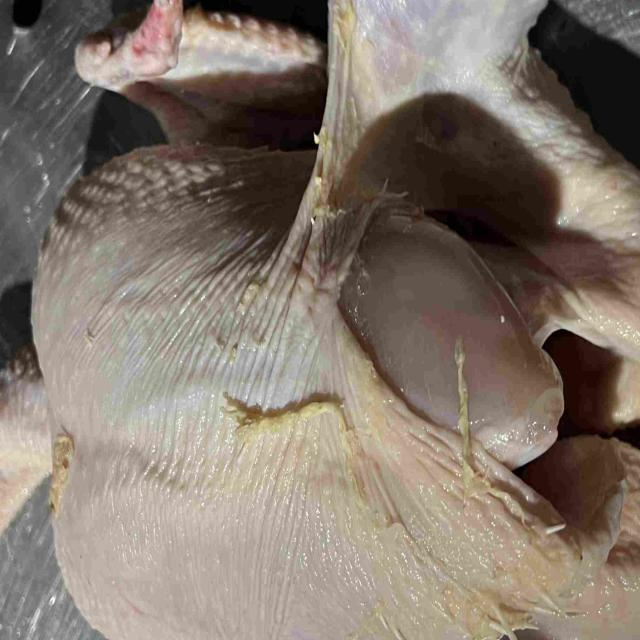breast: (32, 143, 559, 640)
leg: (323, 0, 553, 152)
neck: (0, 355, 53, 518)
wing: (72, 0, 321, 139)
